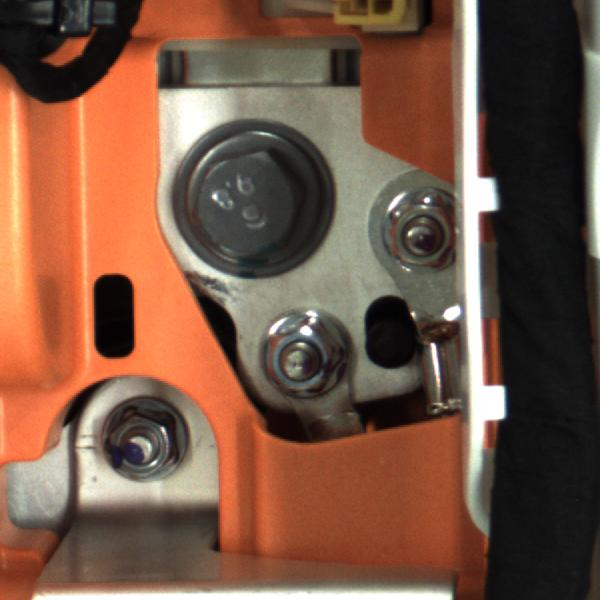nut_b: (169, 119, 328, 274)
screw_s: (87, 396, 191, 490), (249, 311, 351, 399), (375, 178, 465, 276)
